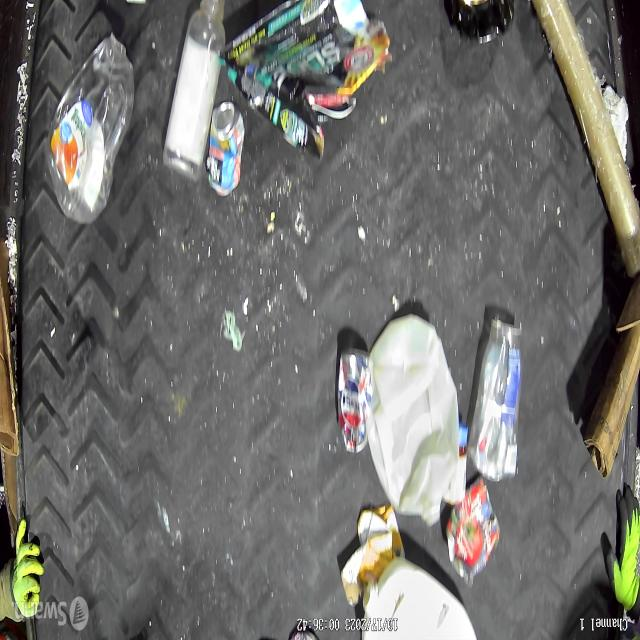can: (446, 476, 499, 589), (205, 98, 244, 198)
milk_jug: (366, 313, 458, 526)
plastic_bottle: (46, 33, 135, 225), (163, 0, 226, 180)
